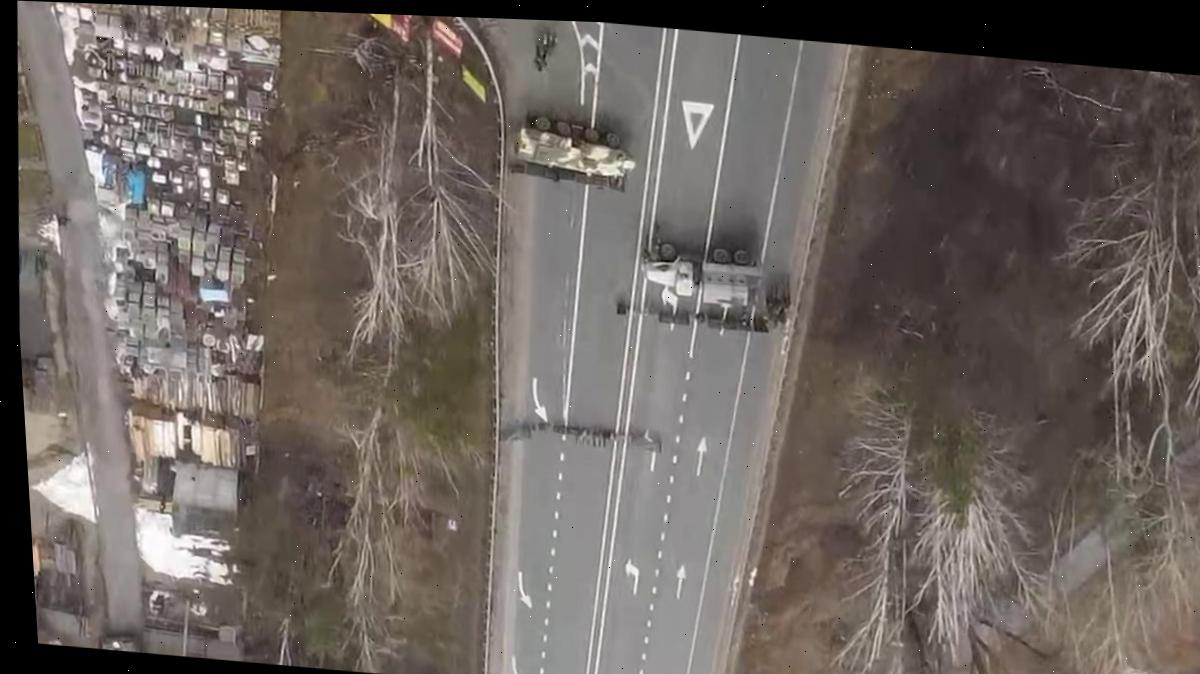person: (639, 222, 665, 258), (776, 274, 794, 312), (537, 29, 559, 59), (532, 43, 550, 73), (55, 202, 71, 230), (734, 307, 750, 328)
tank: (511, 112, 639, 181), (89, 628, 151, 653)
truck: (637, 241, 767, 308)
